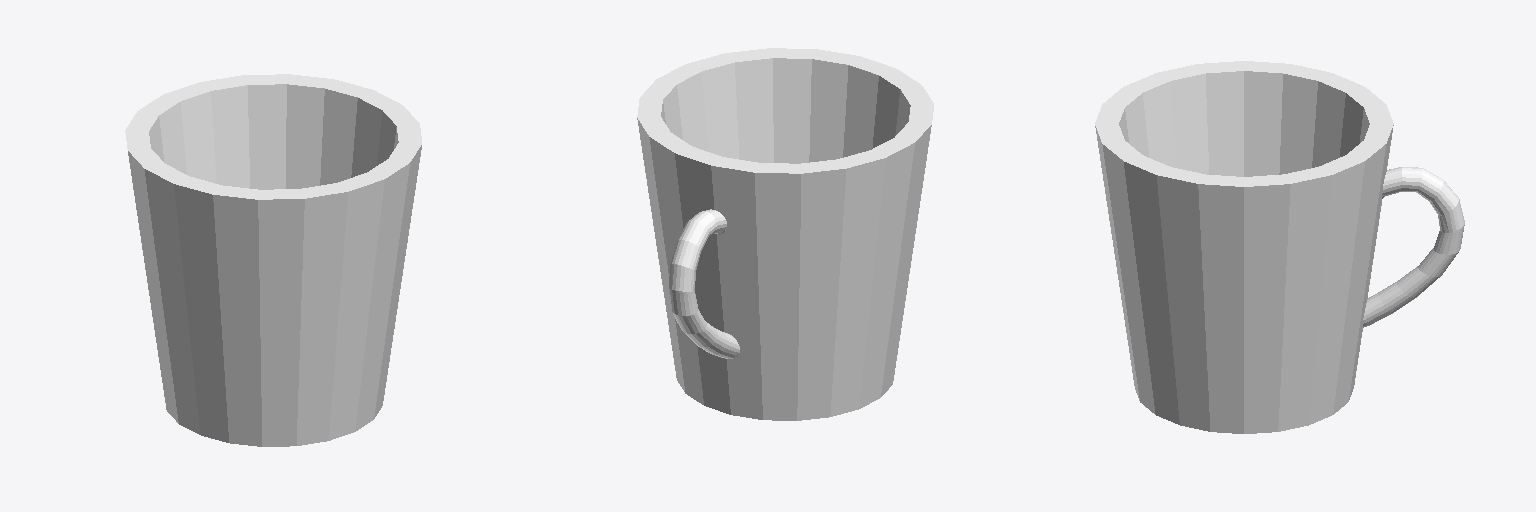
Rendered from mug.obj.
The picture shows the model from 3 angles: view 1: azimuth 30°, elevation 25°; view 2: azimuth 150°, elevation 25°; view 3: azimuth 270°, elevation 25°; orthographic projection.
Visible parts, largest first — view 1: polySurface2 polySurface1; view 2: polySurface2 polySurface1, polySurface1 polySurface3; view 3: polySurface2 polySurface1, polySurface1 polySurface3.
Boxes of the visible parts, <box> form: polySurface2 polySurface1: <box>125,74,421,446</box>; polySurface2 polySurface1: <box>637,48,933,420</box>; polySurface1 polySurface3: <box>669,209,739,358</box>; polySurface2 polySurface1: <box>1095,61,1393,433</box>; polySurface1 polySurface3: <box>1363,167,1464,327</box>.
Bounding box in the file's own units: 73.9 × 72.02 × 91.5.